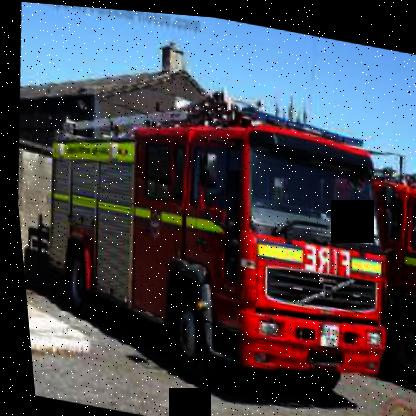emergency: (17, 62, 414, 415)
